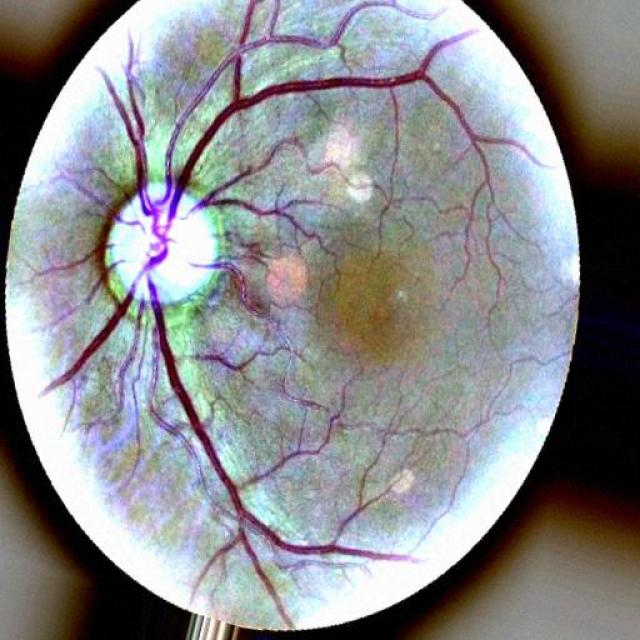Macula: (256, 247, 310, 310)
Nerves: (156, 323, 278, 608), (180, 65, 403, 180), (43, 305, 123, 399), (106, 64, 152, 183)
Optic Disk: (102, 185, 236, 340)
